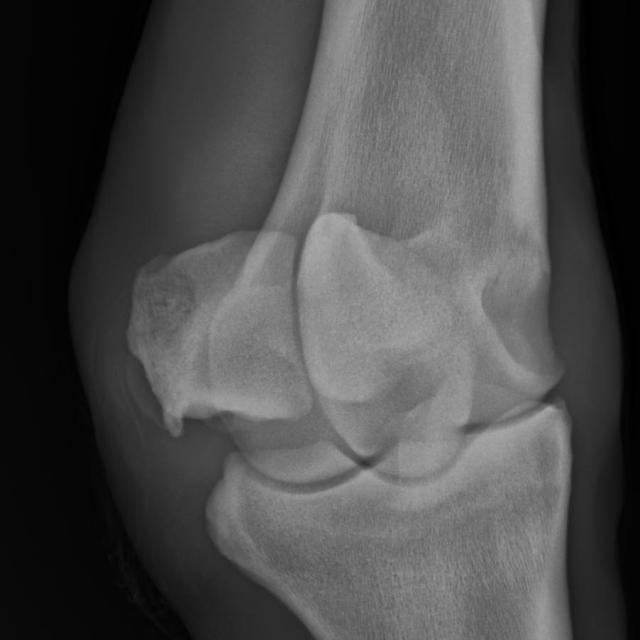bone remodeling: (147, 394, 201, 462), (540, 333, 586, 390), (552, 393, 592, 441)
